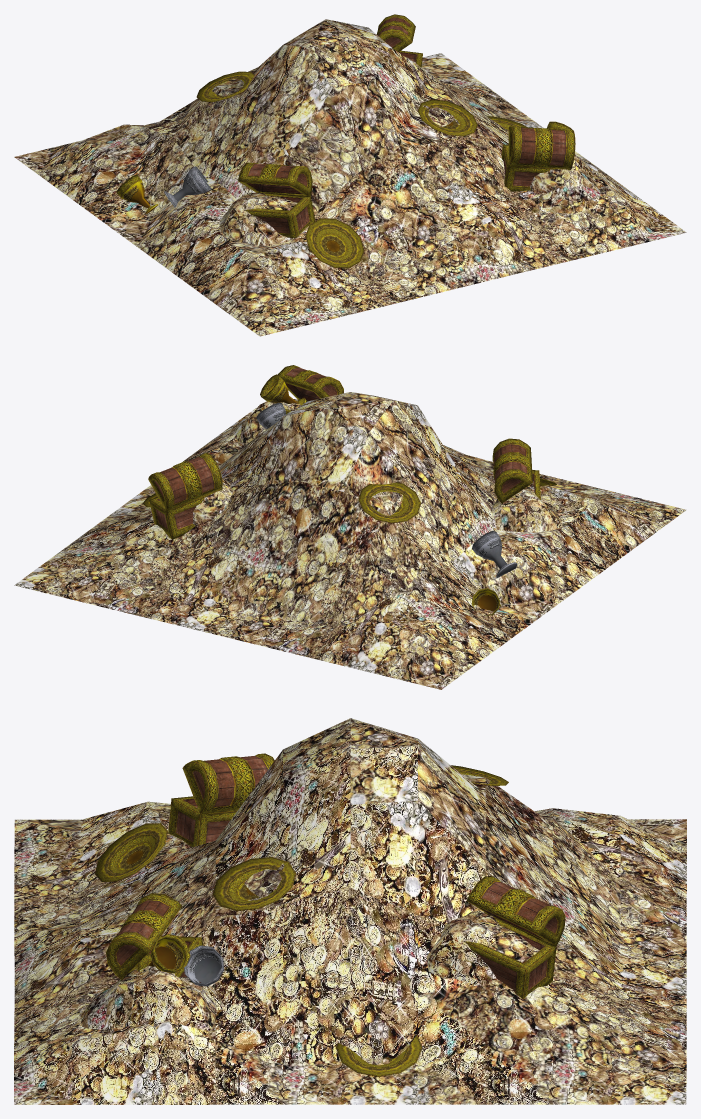
Rendered from KM_VOB_GOLD_HEAP_01.glb.
3 renders of one model, top to bottom at view 1: azimuth 30°, elevation 25°; view 2: azimuth 150°, elevation 25°; view 3: azimuth 270°, elevation 25°, orthographic. The views are drawn at different scales.
Parts seen in each view (by area): view 1: Mesh; view 2: Mesh; view 3: Mesh.
Part boxes in pixels (box(x1,y1,x2,y2)): Mesh: box(14, 14, 686, 336); Mesh: box(14, 365, 686, 689); Mesh: box(14, 718, 686, 1104).
Size of the model in its own units: 5 by 1.84 by 4.98.
3 materials, 3 textured.
